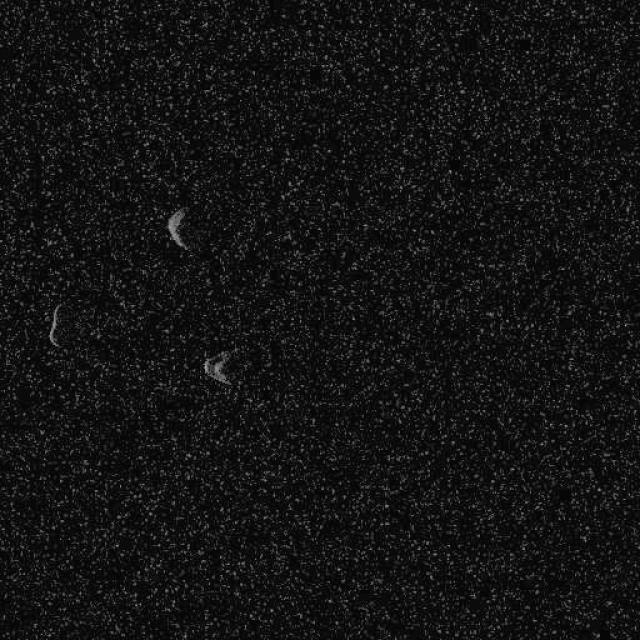D2: (202, 346, 238, 386), (165, 205, 190, 251), (46, 302, 65, 348)
